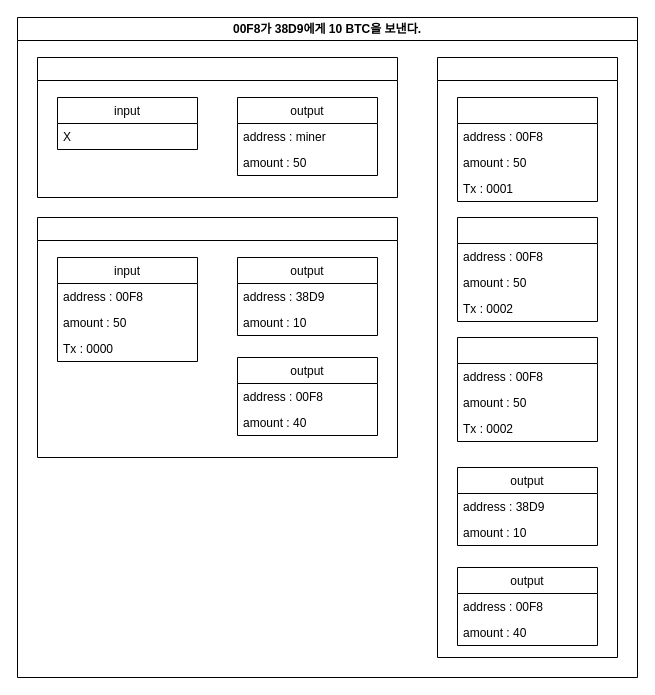
The diagram is 655 pixels wide and 695 high, and some of its shapes have lost their labels. Here are the shapes that lost their labels. From the top down, the box of each, then its label:
(36, 56, 398, 198): Tx 0000
(36, 216, 398, 458): Tx 0001
(436, 56, 618, 658): UTXO
